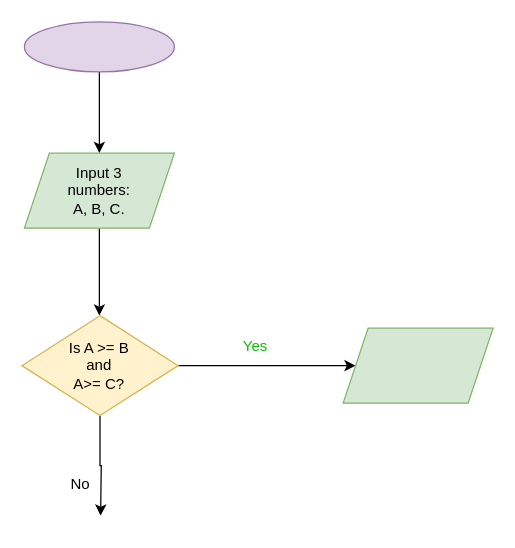
Image size: 515x548. Some labels were removed from this diagram. The box of each missing label's shape, as (x1, y1, x2, y2) in pixels:
Print: A is the greatest: (342, 327, 493, 403)
Start: (23, 21, 174, 72)
